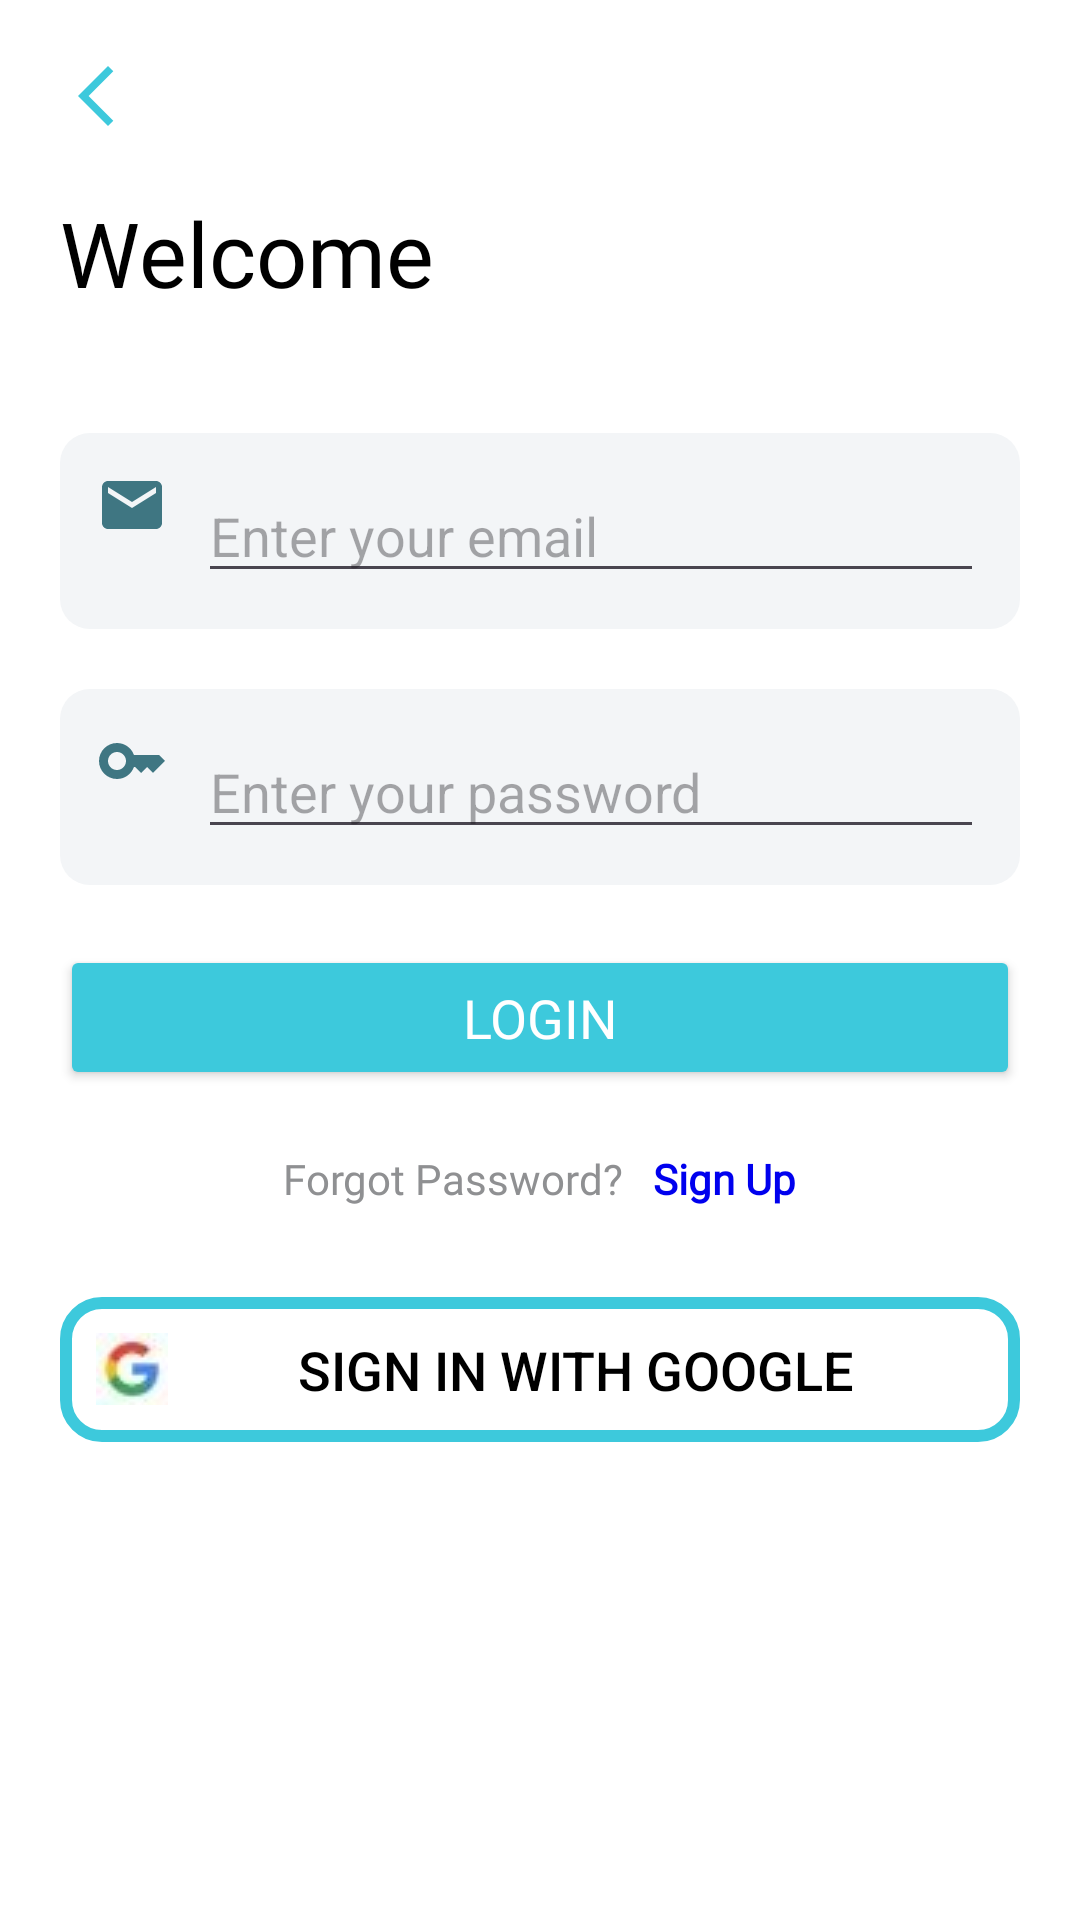

Where to tap for icons on this 1080×1920 app screen, as (x=x, y=y):
Back Arrow: (x=95, y=96)
